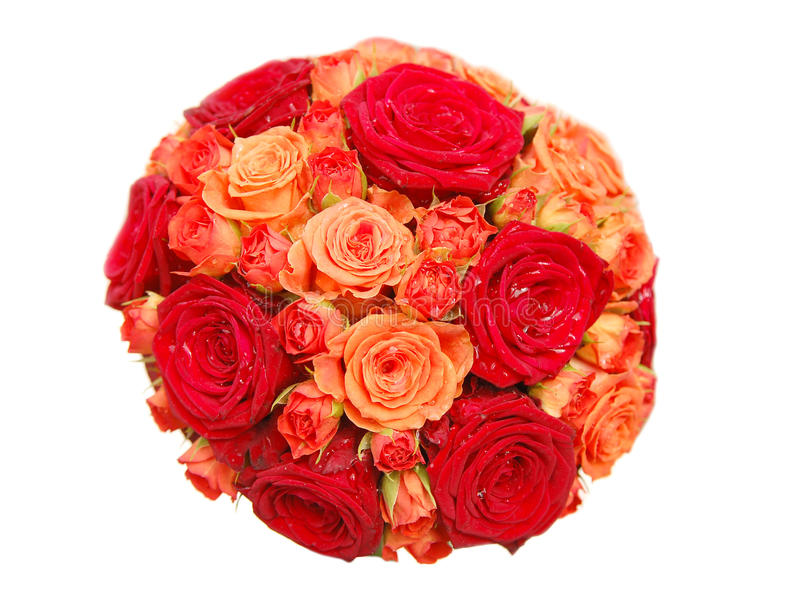RedRose: (344, 54, 541, 198), (420, 390, 588, 545), (459, 230, 619, 389), (152, 269, 294, 439), (248, 424, 396, 564), (184, 41, 328, 152), (101, 177, 196, 301)
